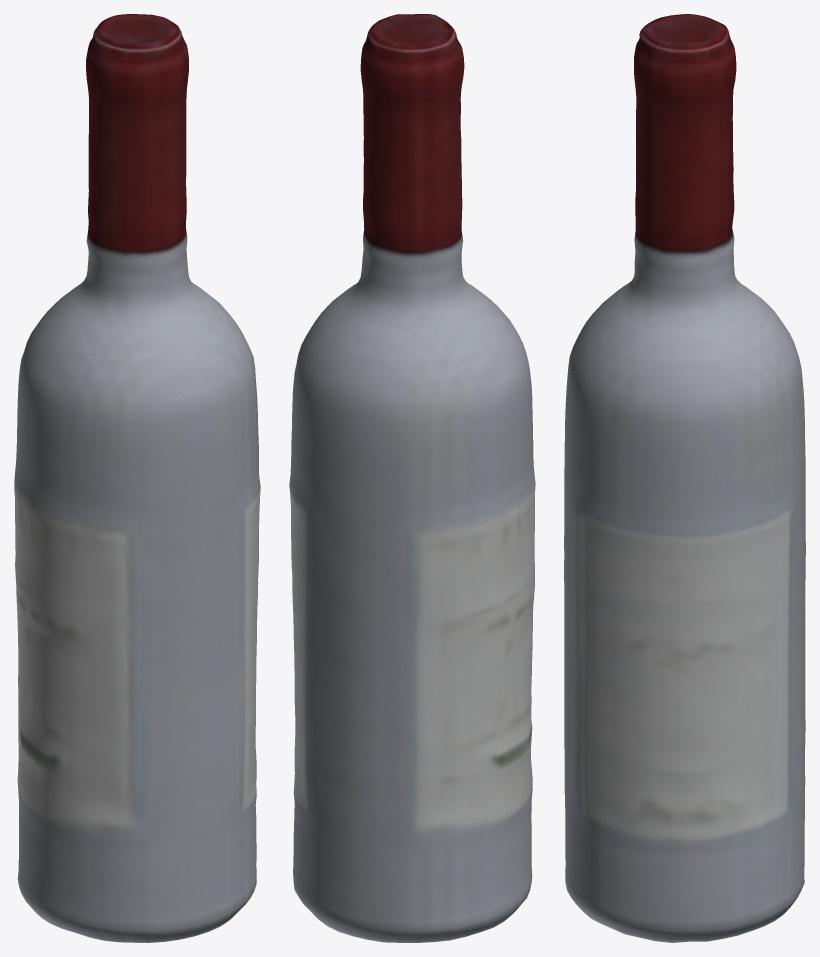
The model's file is WineBottle2.fbx.
3 renders of one model, left to right at view 1: azimuth 30°, elevation 25°; view 2: azimuth 150°, elevation 25°; view 3: azimuth 270°, elevation 25°, orthographic.
Visible parts, largest first — view 1: mesh; view 2: mesh; view 3: mesh.
Part boxes in pixels (bbox=[...]): mesh: bbox=[14, 14, 260, 942]; mesh: bbox=[289, 14, 535, 942]; mesh: bbox=[564, 14, 805, 942].
Bounding box in the file's own units: 25.61 × 99.95 × 25.15.
